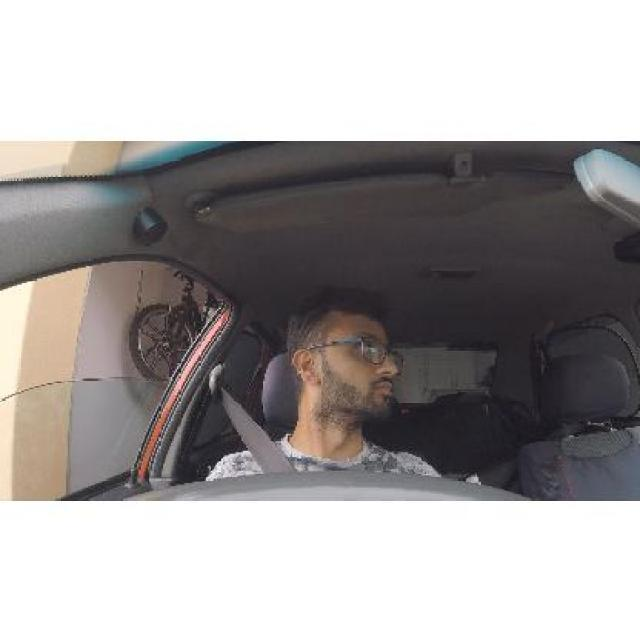LeftRight: (258, 276, 427, 445)
